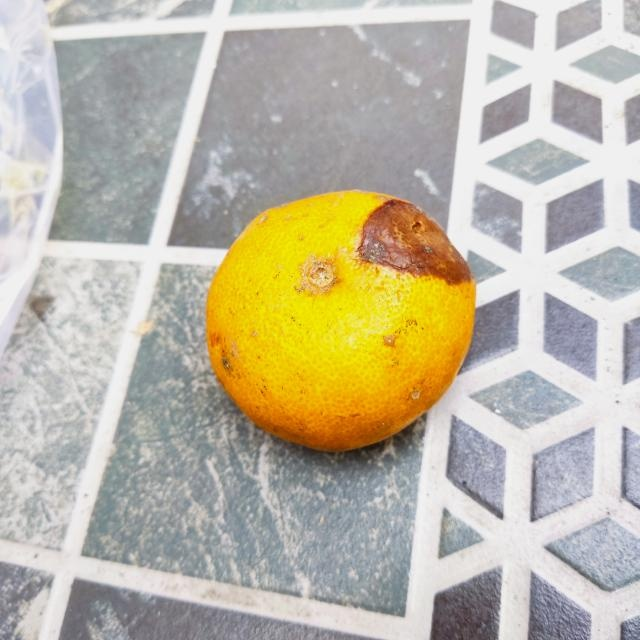agrume: (203, 186, 479, 454)
